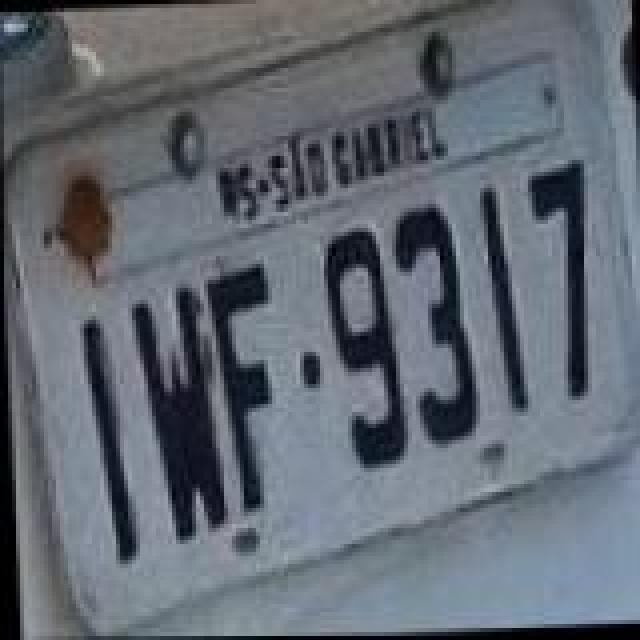1: (76, 314, 136, 562), (472, 182, 528, 418)
3: (384, 204, 480, 452)
7: (524, 160, 596, 404)
9: (322, 222, 410, 470)
F: (200, 264, 276, 516)
W: (126, 282, 226, 542)
